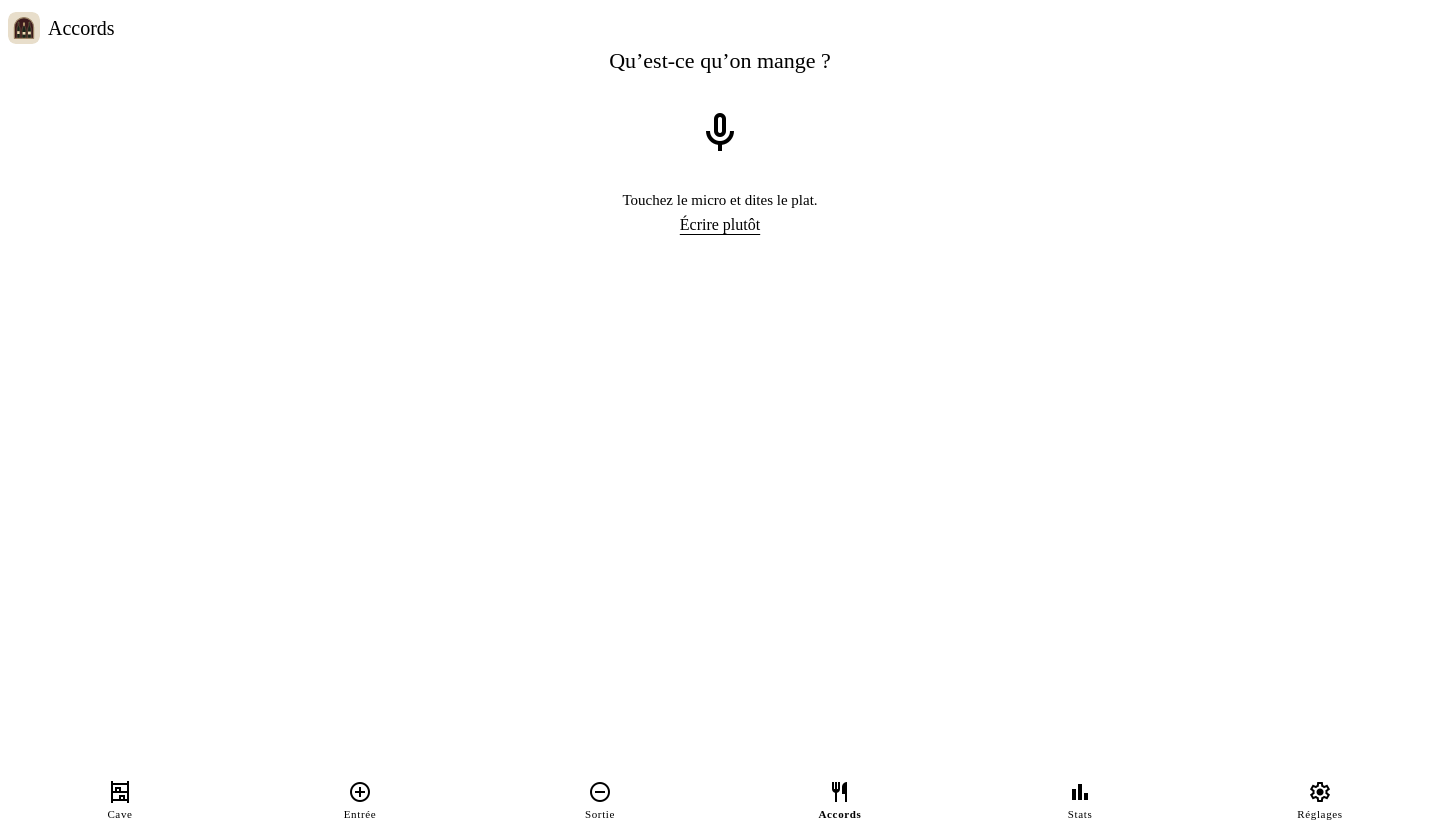
Scenario: micro refusé : message clair et champ texte
Click the button named "Dicter le plat": (720, 133) [664,77,776,189]
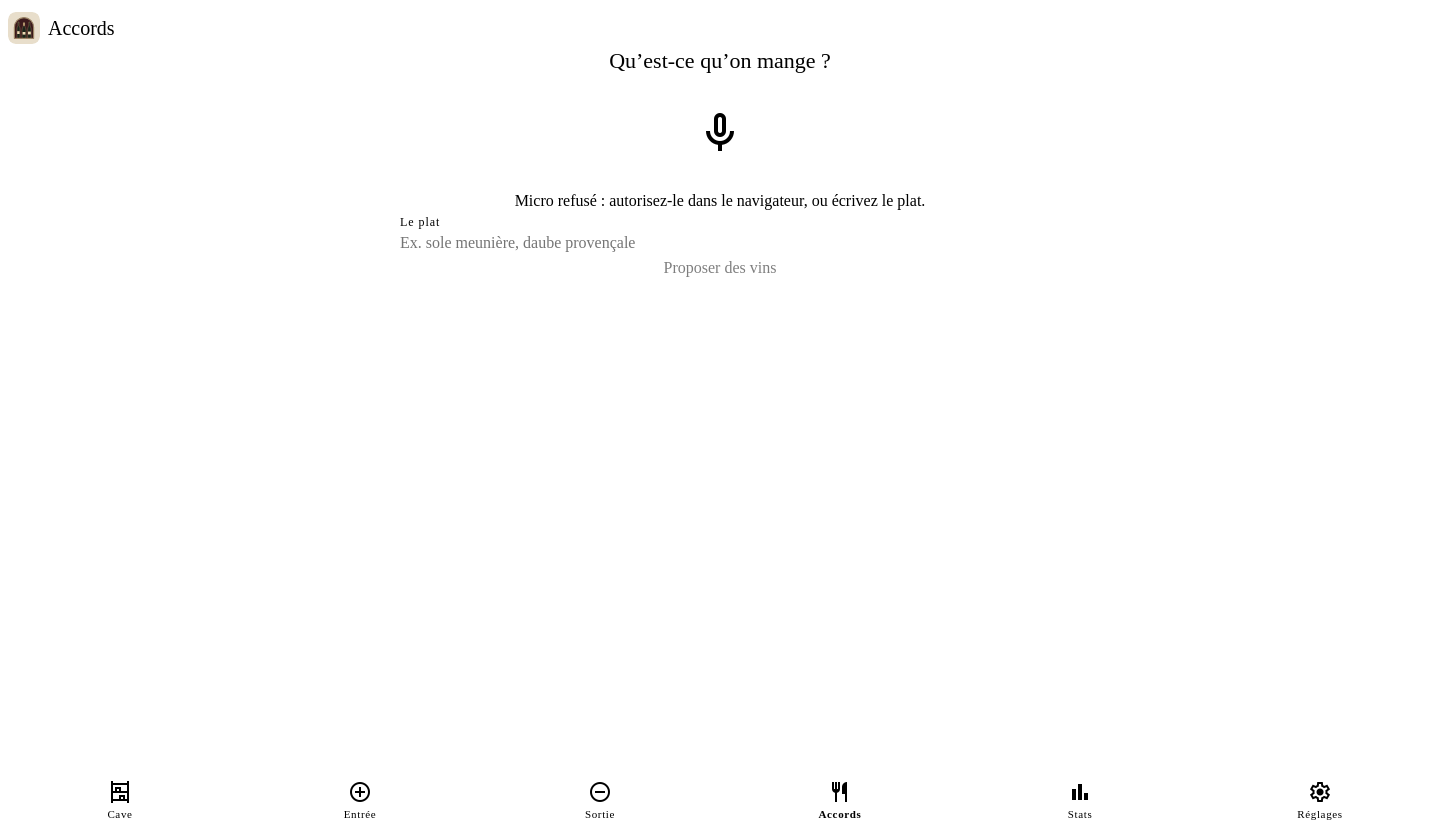
Expected: the message shows "Micro refusé", [515,192,925,209]
Expected: the field labelled "Le plat" is shown, [400,231,1040,255]
